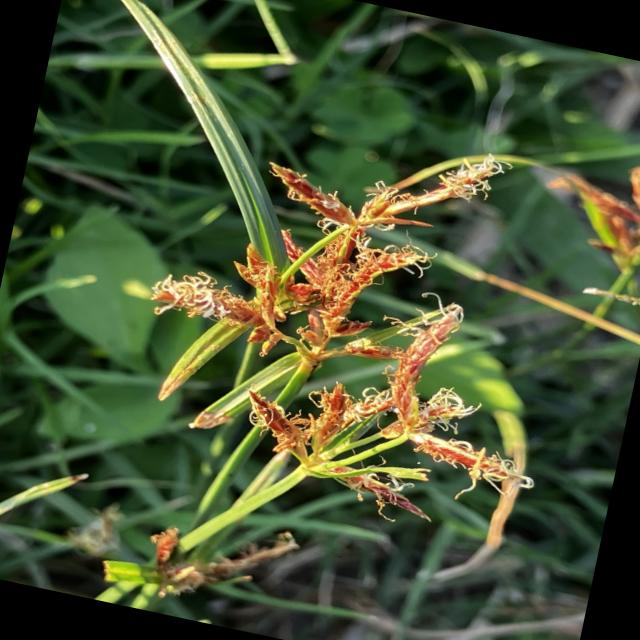cyperus: (22, 63, 614, 588), (526, 74, 640, 334)
